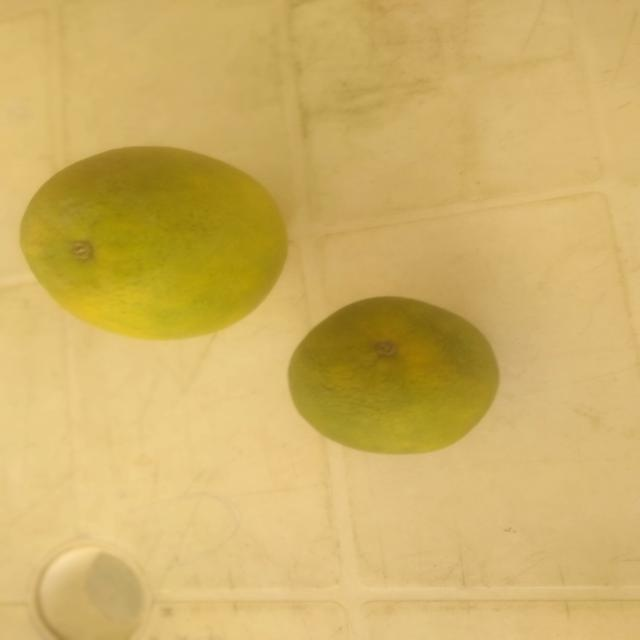agrume: (16, 122, 295, 341), (280, 286, 496, 467)
